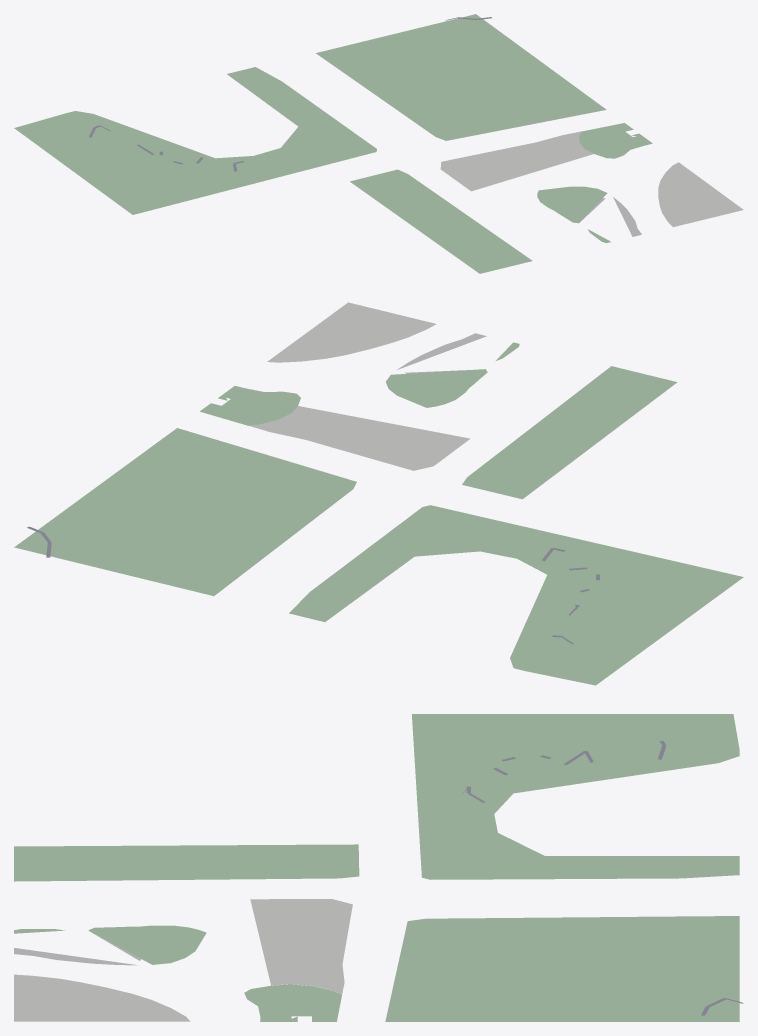
Rendered from 121_124_mid.glb.
The picture shows the model from 3 angles, top to bottom: view 1: azimuth 30°, elevation 25°; view 2: azimuth 150°, elevation 25°; view 3: azimuth 270°, elevation 25°; orthographic projection. The views are drawn at different scales.
Size of the model in its own units: 503 by 7.83 by 503.
